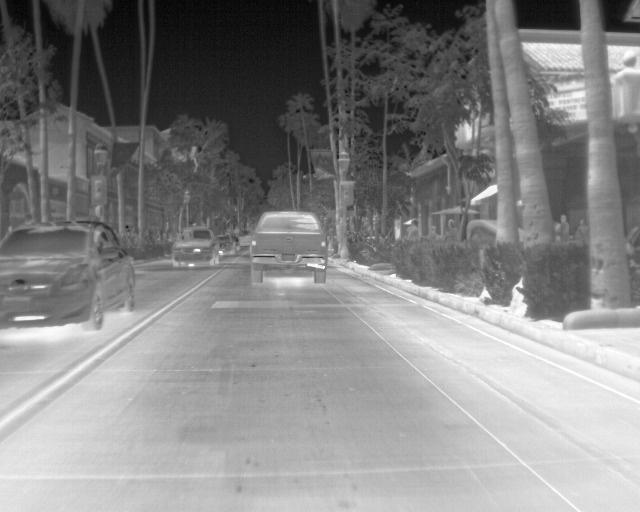bicycle: (0, 219, 138, 330), (248, 210, 332, 282), (170, 227, 221, 269), (216, 233, 238, 257)
empty: (555, 213, 571, 240)
